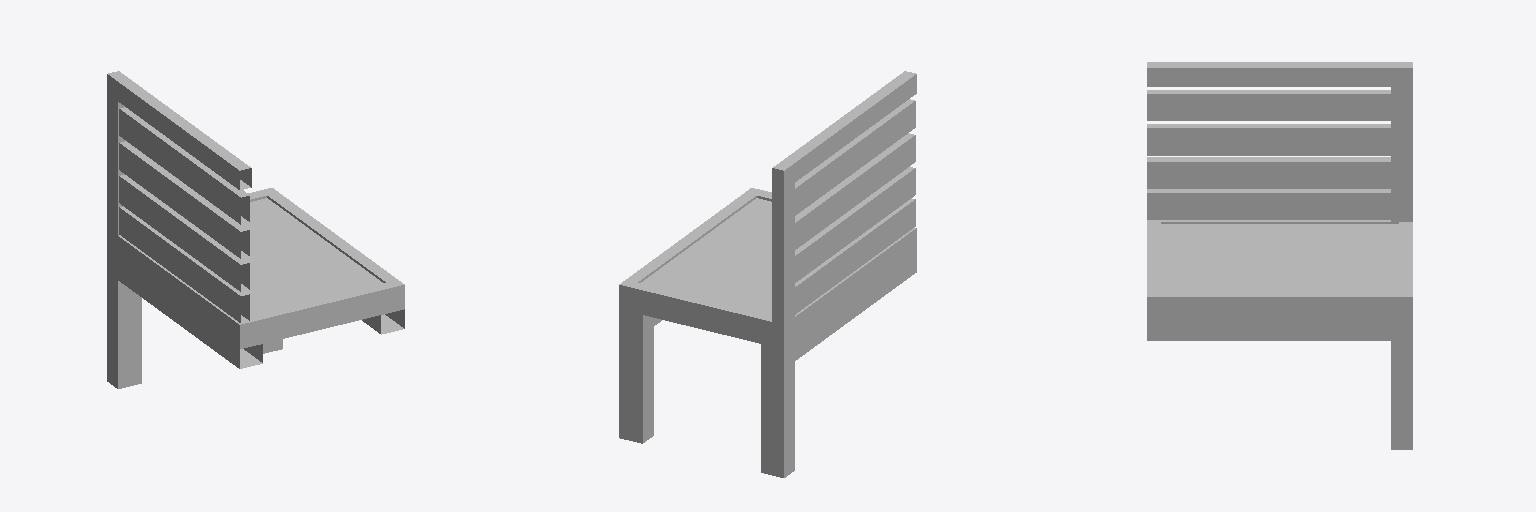
File: benchrightz-.obj
3 views of the same model, side by side, from view 1: azimuth 30°, elevation 25°; view 2: azimuth 150°, elevation 25°; view 3: azimuth 270°, elevation 25° (orthographic).
Visible parts, largest first — view 1: chair_bedx+.042; view 2: chair_bedx+.042; view 3: chair_bedx+.042.
Boxes of the visible parts, <box> form: chair_bedx+.042: <box>107,71,404,388</box>; chair_bedx+.042: <box>619,71,916,477</box>; chair_bedx+.042: <box>1147,62,1412,449</box>.
Bounding box in the file's own units: 0.7 × 1.25 × 0.9737.